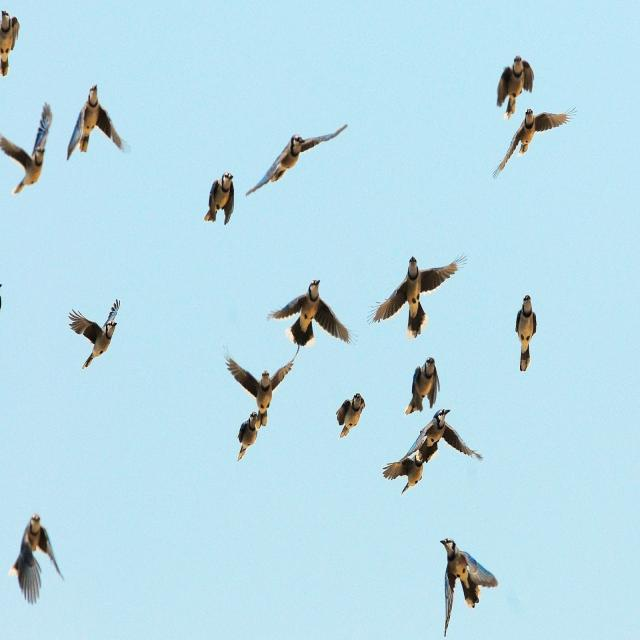bird: (378, 410, 487, 496), (224, 354, 298, 458), (371, 255, 462, 338), (243, 128, 349, 194), (266, 278, 351, 350), (436, 539, 499, 633), (9, 512, 65, 609), (493, 109, 573, 176), (0, 101, 55, 198), (65, 292, 122, 372), (63, 88, 125, 156), (494, 57, 533, 117), (405, 359, 440, 417), (514, 292, 538, 373), (204, 172, 238, 225), (337, 394, 369, 444), (1, 12, 23, 78)
